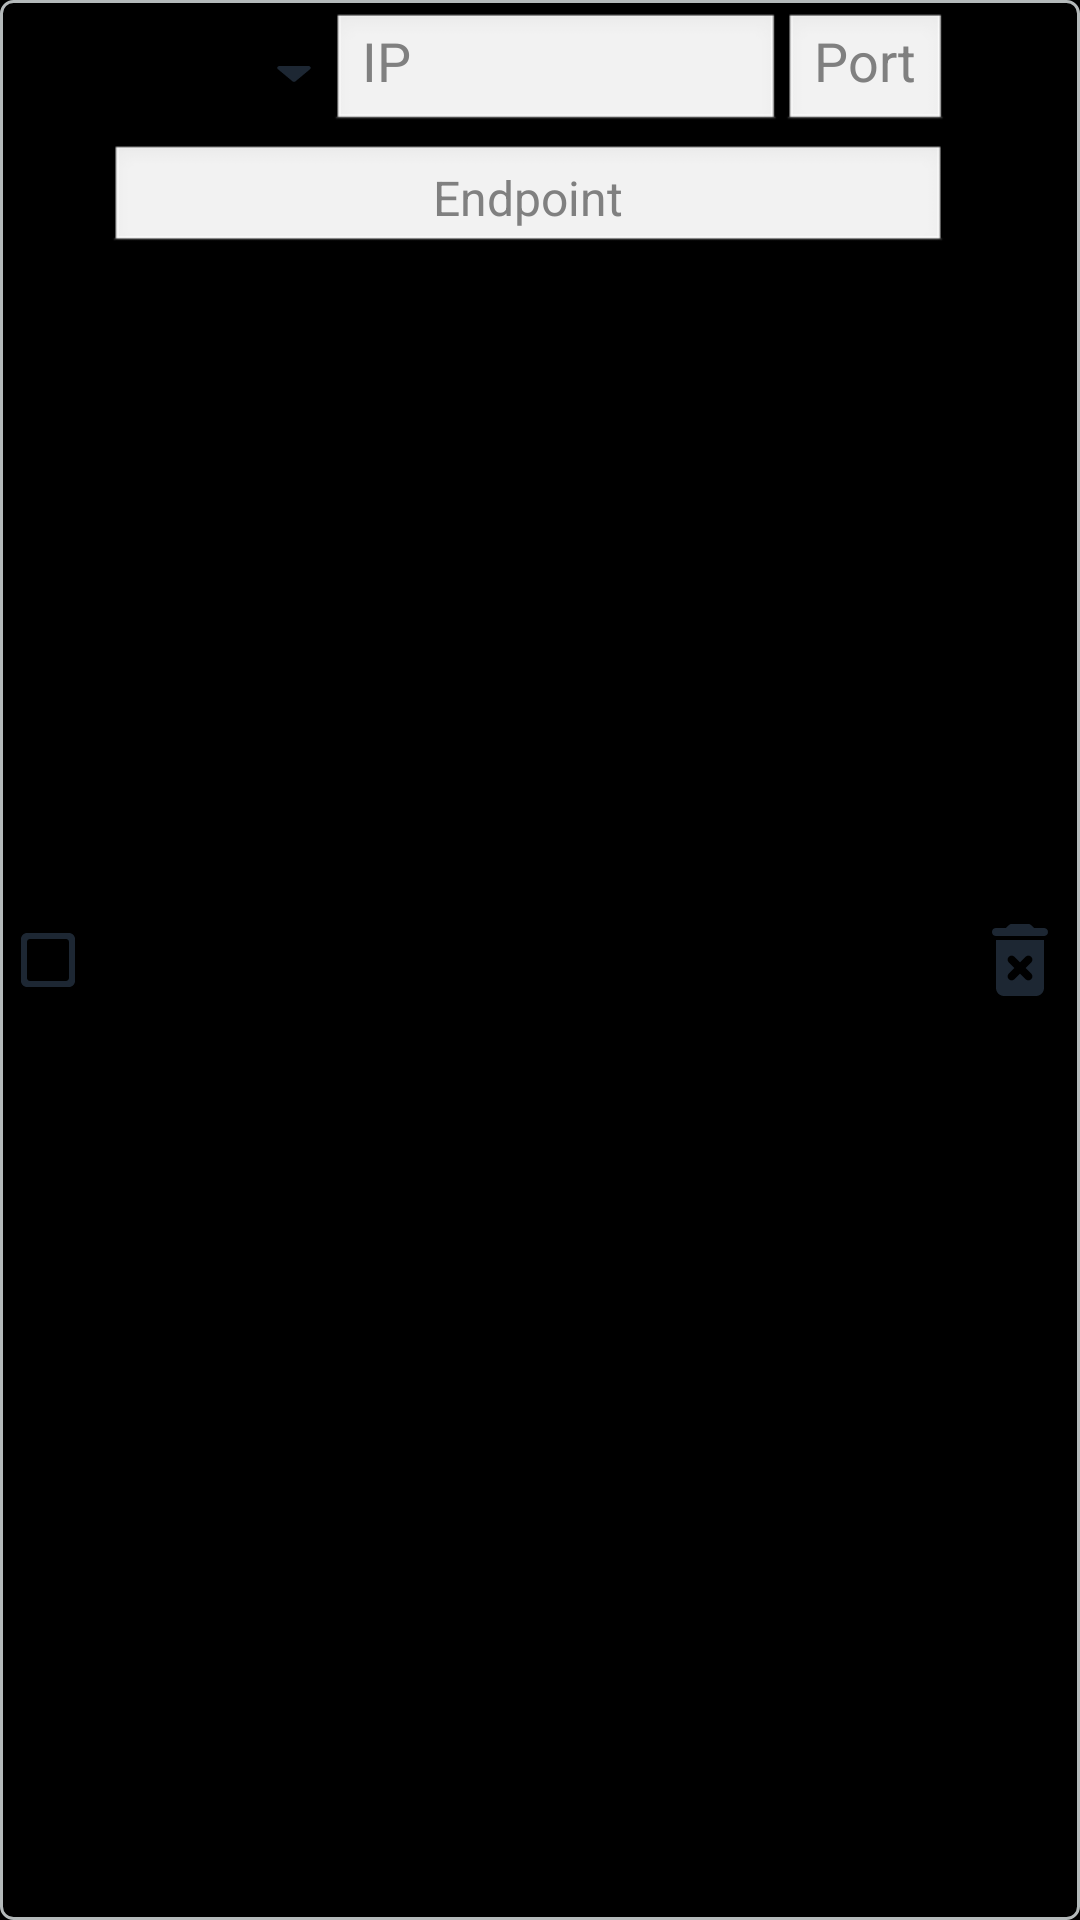

Point at icon controls on the screen. Image size 1080px×1920px, points as [x,y].
custom checkbox: [48,960]
dropdown: [294,74]
